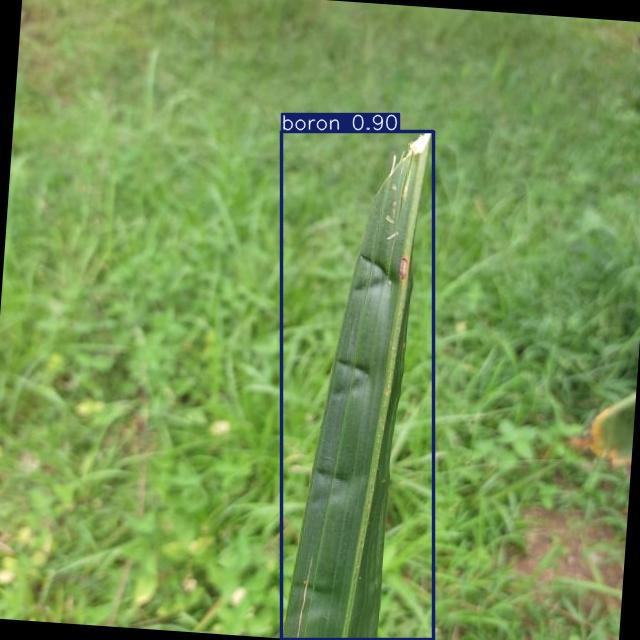nitrogen: (281, 131, 434, 639)
